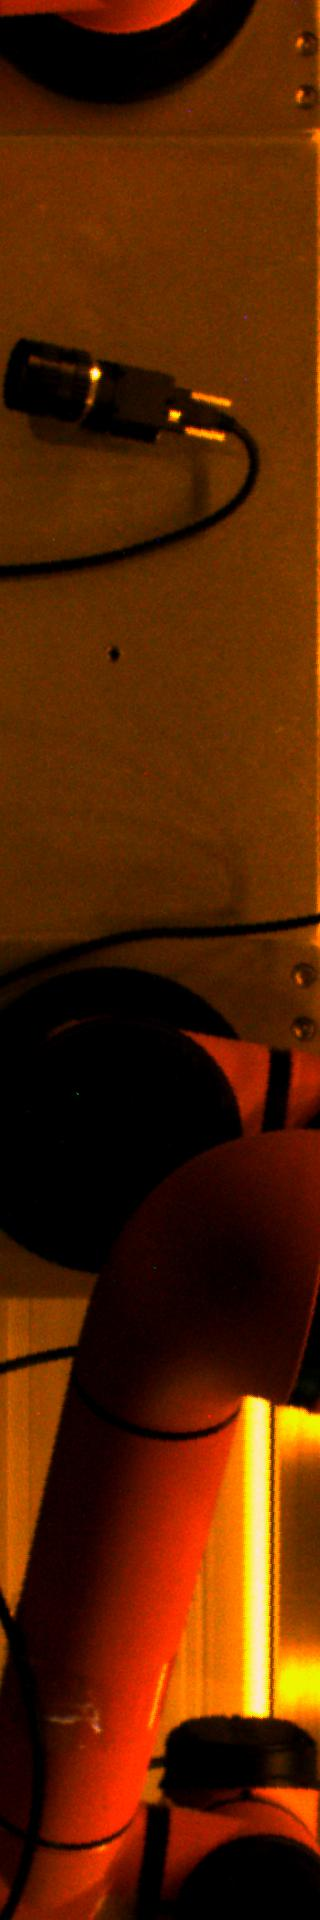keyPoint_2: (98, 640, 128, 670)
